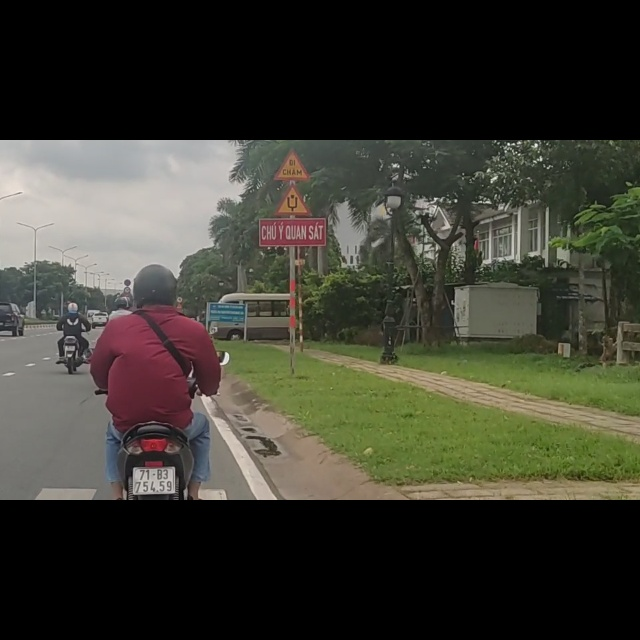bien_nguy_hiem: (275, 76, 311, 136), (274, 15, 310, 72), (124, 245, 132, 260)
